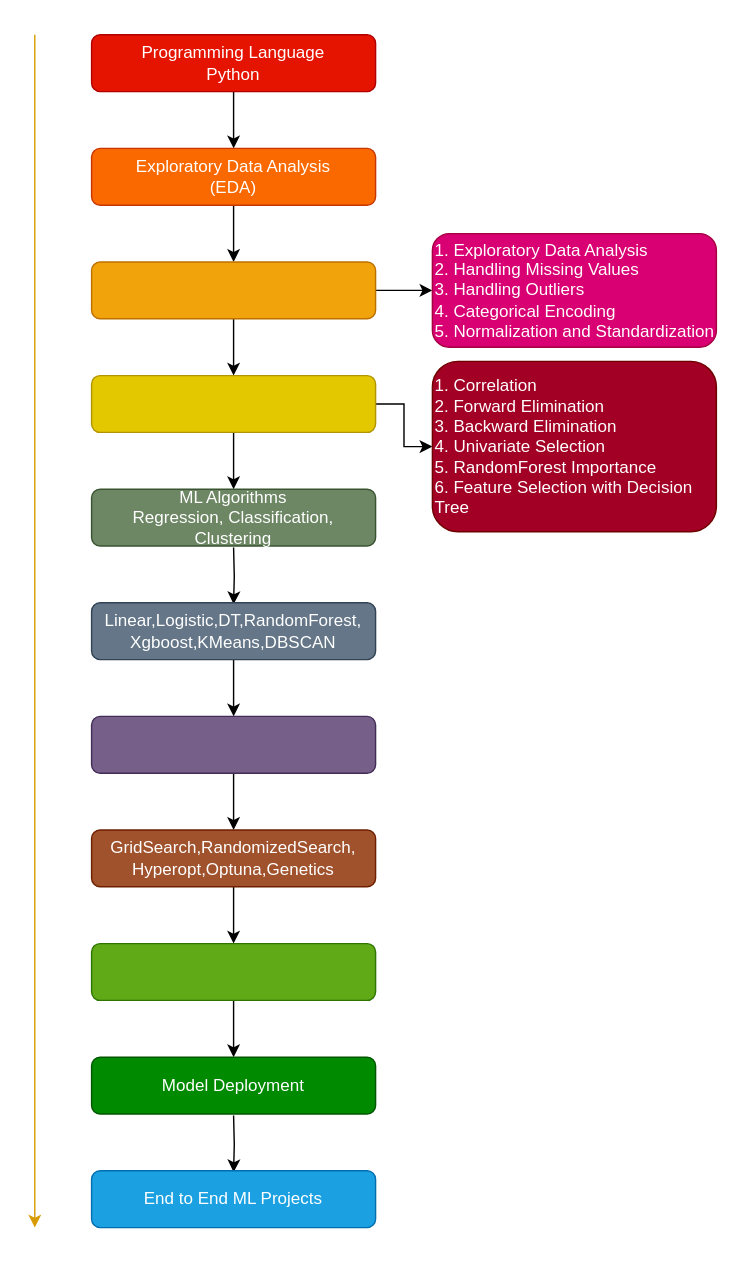
This 741x1264 diagram has some shape labels left out. Here are the shapes that lost their labels. From the top down, the centre of each, then its label:
the point at 233,290: Feature Engineering
the point at 233,403: Feature Selection
the point at 233,744: Hyper Parameter Tuning
the point at 233,971: Docker and Kubernetes
